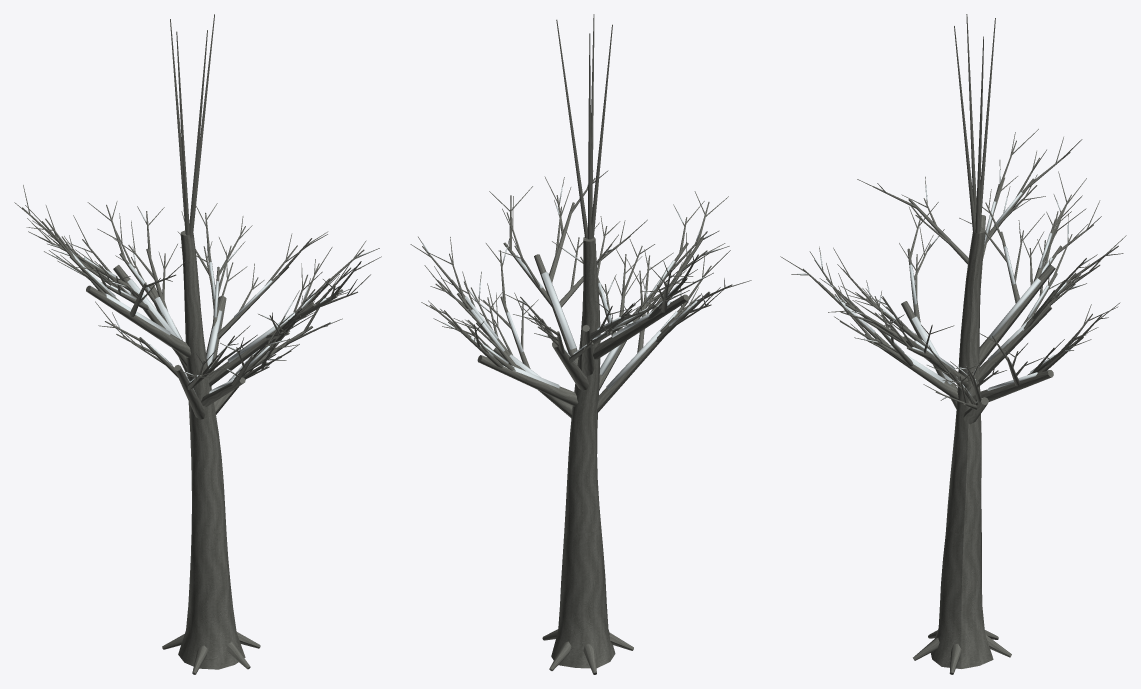
Rendered from PZ_BareOak_HeavySnow.glb.
3 renders of one model, left to right at view 1: azimuth 30°, elevation 25°; view 2: azimuth 150°, elevation 25°; view 3: azimuth 270°, elevation 25°, orthographic. The views are drawn at different scales.
Parts seen in each view (by area): view 1: RENDER_BareOak_HeavySnow_Trunk_Deciduous_Tree_Bark_Deciduous, RENDER_BareOak_HeavySnow_TertiaryTwigs_Tree_Bark_Deciduous, RENDER_BareOak_HeavySnow_PrimaryLimbs_Tree_Bark_Deciduous, RENDER_BareOak_HeavySnow_TerminalTwigs_Tree_Bark_Deciduous, RENDER_BareOak_HeavySnow_SecondaryLimbs_Tree_Bark_Deciduous, RENDER_BareOak_HeavySnow_LimbSnowCaps_Tree_Snow_Fresh, RENDER_BareOak_HeavySnow_CrownSpires_Tree_Bark_Deciduous, RENDER_BareOak_HeavySnow_RootButtress_Tree_Bark_Deciduous; view 2: RENDER_BareOak_HeavySnow_Trunk_Deciduous_Tree_Bark_Deciduous, RENDER_BareOak_HeavySnow_TertiaryTwigs_Tree_Bark_Deciduous, RENDER_BareOak_HeavySnow_PrimaryLimbs_Tree_Bark_Deciduous, RENDER_BareOak_HeavySnow_SecondaryLimbs_Tree_Bark_Deciduous, RENDER_BareOak_HeavySnow_TerminalTwigs_Tree_Bark_Deciduous, RENDER_BareOak_HeavySnow_LimbSnowCaps_Tree_Snow_Fresh, RENDER_BareOak_HeavySnow_CrownSpires_Tree_Bark_Deciduous, RENDER_BareOak_HeavySnow_RootButtress_Tree_Bark_Deciduous; view 3: RENDER_BareOak_HeavySnow_Trunk_Deciduous_Tree_Bark_Deciduous, RENDER_BareOak_HeavySnow_TertiaryTwigs_Tree_Bark_Deciduous, RENDER_BareOak_HeavySnow_PrimaryLimbs_Tree_Bark_Deciduous, RENDER_BareOak_HeavySnow_SecondaryLimbs_Tree_Bark_Deciduous, RENDER_BareOak_HeavySnow_TerminalTwigs_Tree_Bark_Deciduous, RENDER_BareOak_HeavySnow_LimbSnowCaps_Tree_Snow_Fresh, RENDER_BareOak_HeavySnow_CrownSpires_Tree_Bark_Deciduous, RENDER_BareOak_HeavySnow_RootButtress_Tree_Bark_Deciduous.
Part boxes in pixels (x1=…): RENDER_BareOak_HeavySnow_Trunk_Deciduous_Tree_Bark_Deciduous: x1=178, y1=230, x2=245, y2=669; RENDER_BareOak_HeavySnow_TertiaryTwigs_Tree_Bark_Deciduous: x1=22, y1=204, x2=364, y2=380; RENDER_BareOak_HeavySnow_PrimaryLimbs_Tree_Bark_Deciduous: x1=86, y1=265, x2=315, y2=419; RENDER_BareOak_HeavySnow_TerminalTwigs_Tree_Bark_Deciduous: x1=14, y1=185, x2=381, y2=377; RENDER_BareOak_HeavySnow_SecondaryLimbs_Tree_Bark_Deciduous: x1=56, y1=236, x2=342, y2=390; RENDER_BareOak_HeavySnow_LimbSnowCaps_Tree_Snow_Fresh: x1=70, y1=250, x2=326, y2=393; RENDER_BareOak_HeavySnow_CrownSpires_Tree_Bark_Deciduous: x1=170, y1=14, x2=214, y2=238; RENDER_BareOak_HeavySnow_RootButtress_Tree_Bark_Deciduous: x1=162, y1=632, x2=260, y2=674; RENDER_BareOak_HeavySnow_Trunk_Deciduous_Tree_Bark_Deciduous: x1=551, y1=237, x2=615, y2=668; RENDER_BareOak_HeavySnow_TertiaryTwigs_Tree_Bark_Deciduous: x1=422, y1=178, x2=732, y2=355; RENDER_BareOak_HeavySnow_PrimaryLimbs_Tree_Bark_Deciduous: x1=477, y1=254, x2=688, y2=417; RENDER_BareOak_HeavySnow_SecondaryLimbs_Tree_Bark_Deciduous: x1=450, y1=202, x2=710, y2=370; RENDER_BareOak_HeavySnow_TerminalTwigs_Tree_Bark_Deciduous: x1=410, y1=170, x2=751, y2=350; RENDER_BareOak_HeavySnow_LimbSnowCaps_Tree_Snow_Fresh: x1=465, y1=255, x2=697, y2=389; RENDER_BareOak_HeavySnow_CrownSpires_Tree_Bark_Deciduous: x1=556, y1=14, x2=612, y2=239; RENDER_BareOak_HeavySnow_RootButtress_Tree_Bark_Deciduous: x1=542, y1=629, x2=633, y2=674; RENDER_BareOak_HeavySnow_Trunk_Deciduous_Tree_Bark_Deciduous: x1=931, y1=228, x2=993, y2=668; RENDER_BareOak_HeavySnow_TertiaryTwigs_Tree_Bark_Deciduous: x1=802, y1=140, x2=1118, y2=404; RENDER_BareOak_HeavySnow_PrimaryLimbs_Tree_Bark_Deciduous: x1=873, y1=215, x2=1055, y2=424; RENDER_BareOak_HeavySnow_SecondaryLimbs_Tree_Bark_Deciduous: x1=819, y1=178, x2=1083, y2=410; RENDER_BareOak_HeavySnow_TerminalTwigs_Tree_Bark_Deciduous: x1=780, y1=129, x2=1126, y2=400; RENDER_BareOak_HeavySnow_LimbSnowCaps_Tree_Snow_Fresh: x1=835, y1=192, x2=1071, y2=402; RENDER_BareOak_HeavySnow_CrownSpires_Tree_Bark_Deciduous: x1=954, y1=14, x2=995, y2=235; RENDER_BareOak_HeavySnow_RootButtress_Tree_Bark_Deciduous: x1=913, y1=630, x2=1011, y2=674.
Bounding box in the file's own units: 5.74 × 10.89 × 5.46.
2 materials, 2 textured.
